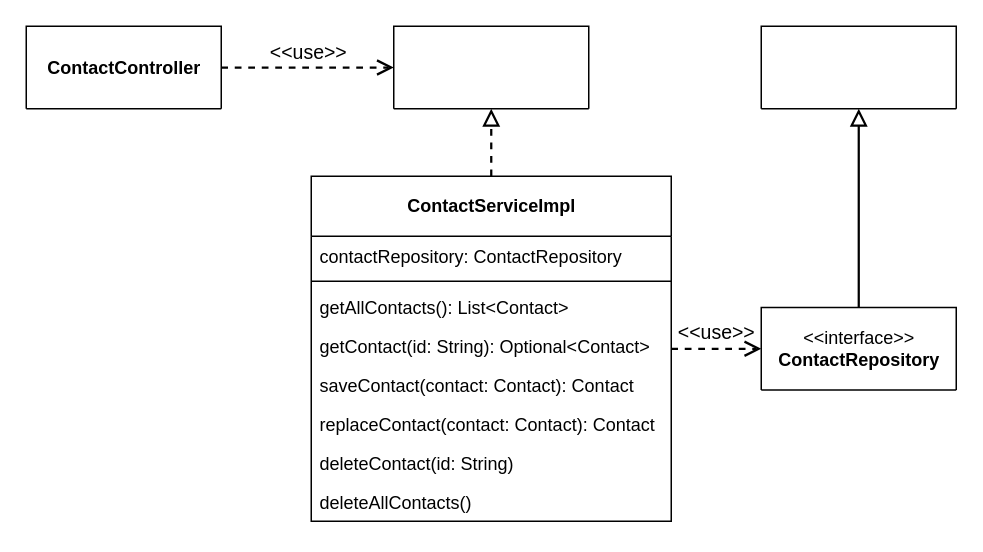
The diagram is 983 pixels wide and 552 high, and some of its shapes have lost their labels. Here are the shapes that lost their labels. From the top down, the centre of each, then its label:
point 490,67: <<interface>> ContactService
point 858,67: MongoRepository
